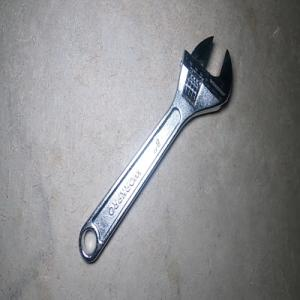Wrench: (78, 35, 232, 262)
